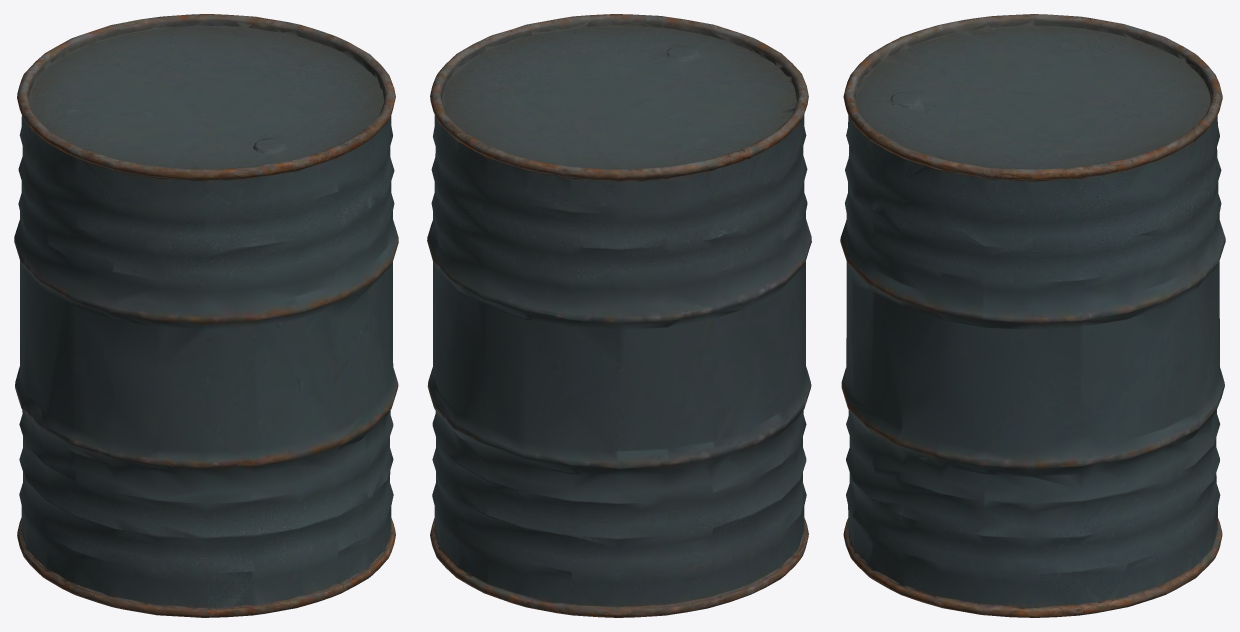
File: becoDrum.glb
The picture shows the model from 3 angles, left to right: view 1: azimuth 30°, elevation 25°; view 2: azimuth 150°, elevation 25°; view 3: azimuth 270°, elevation 25°; orthographic projection.
Bounding box in the file's own units: 1.48 × 1.9 × 1.48.
Materials: 1 (1 with a texture image).
